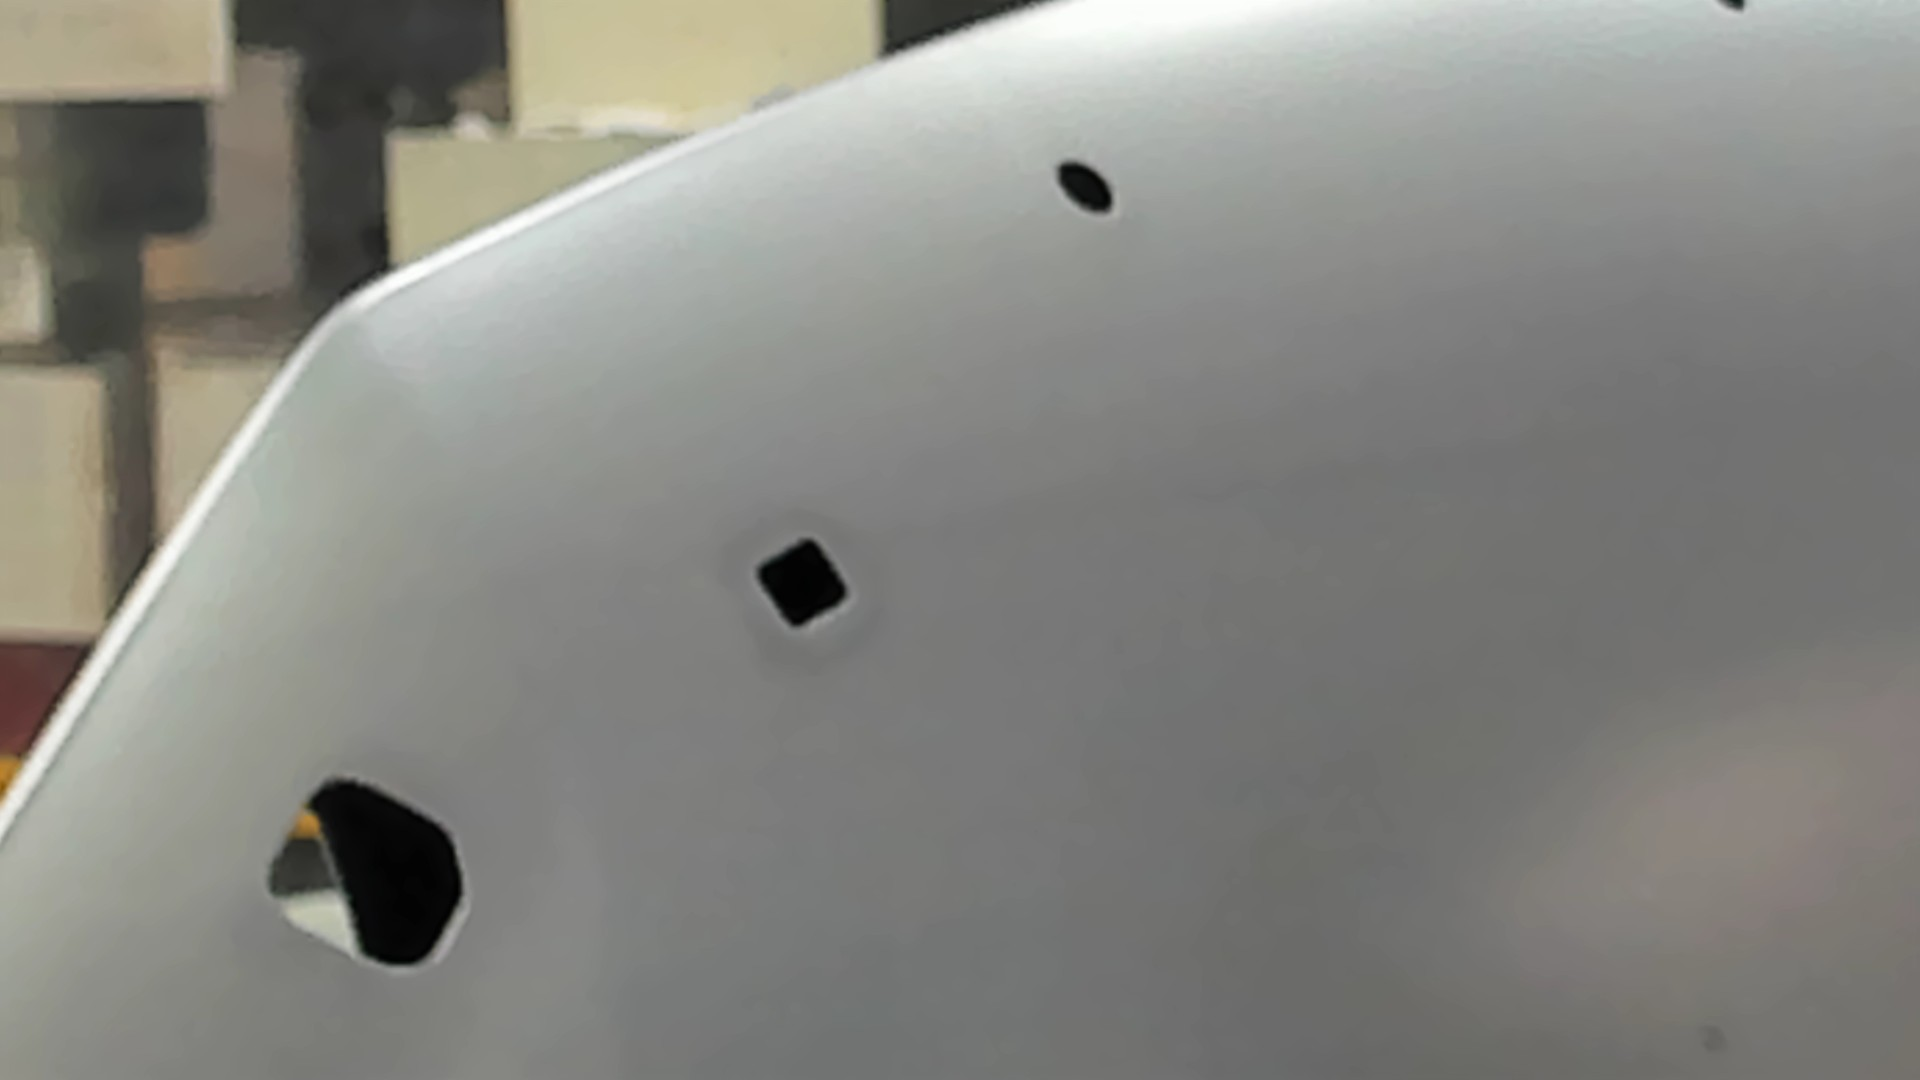chico: (1052, 154, 1120, 219)
grande: (262, 771, 471, 978)
mediano: (752, 535, 855, 633)
